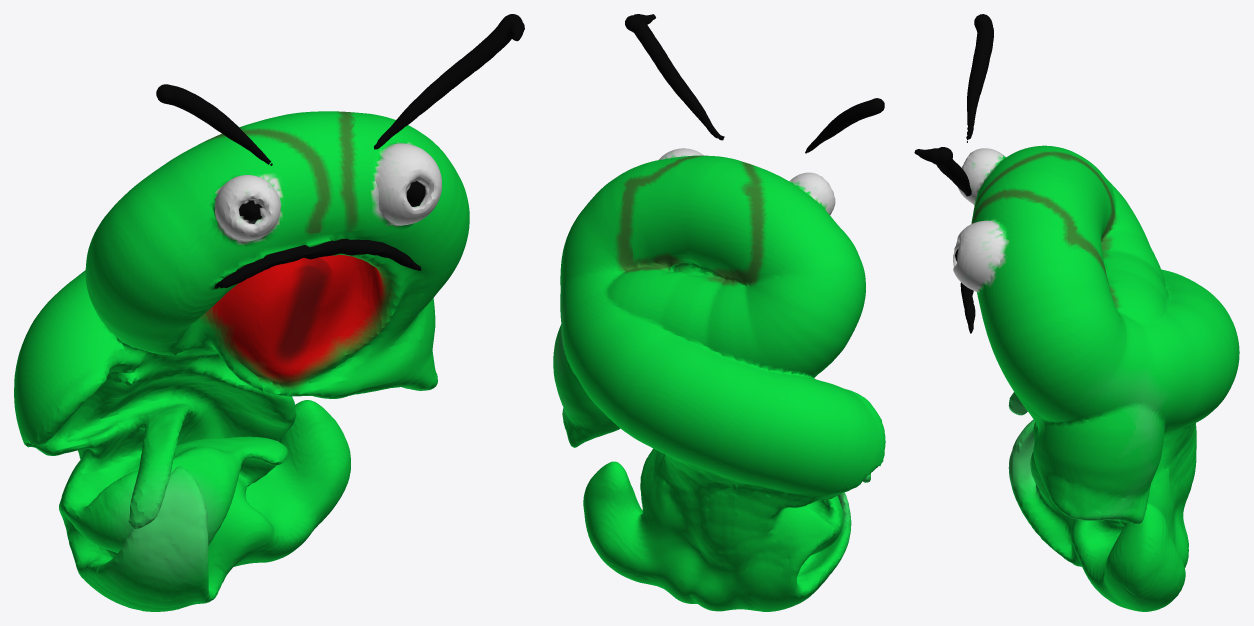
File: MONSTERGIC.fbx
3 renders of one model, left to right at view 1: azimuth 30°, elevation 25°; view 2: azimuth 150°, elevation 25°; view 3: azimuth 270°, elevation 25°, orthographic. The views are drawn at different scales.
Visible parts, largest first — view 1: Couche_1; view 2: Couche_1; view 3: Couche_1.
Boxes of the visible parts, x1,y1,x2,y2 form: Couche_1: [14, 14, 524, 611]; Couche_1: [553, 14, 885, 611]; Couche_1: [914, 14, 1239, 611].
Bounding box in the file's own units: 0.776 × 0.6099 × 1.09.
